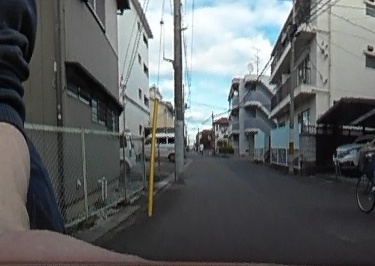person: (372, 106, 375, 204), (198, 139, 205, 155)
